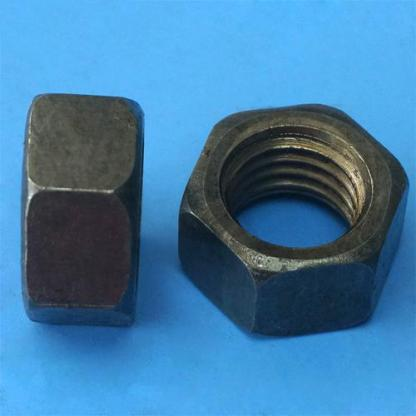FOD: (176, 98, 410, 340), (17, 87, 145, 331)
